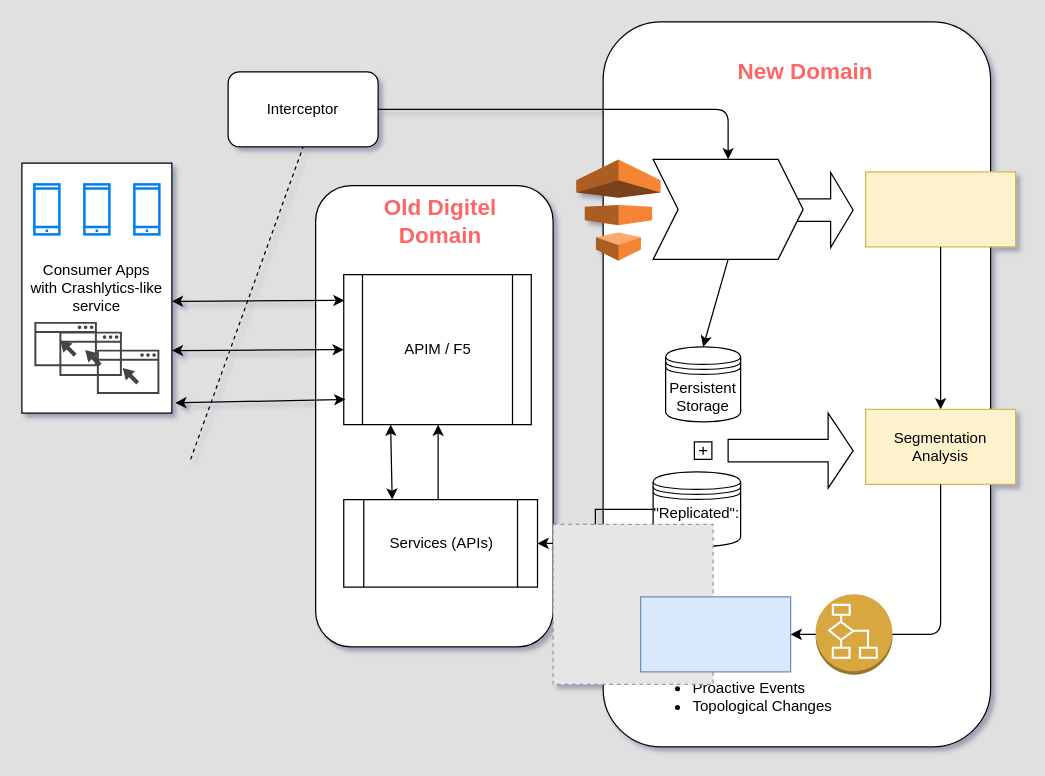
Image size: 1045x776. Some labels were removed from this diagram. Grey dashed boxes stand in for pictures. The centre of each missing label's shape, as x and y in pixels:
Events Stream (Time Series) Kafka: point 727,208
Stream Analysis: point 940,209
Web Business Analytics Portal: point 715,634
